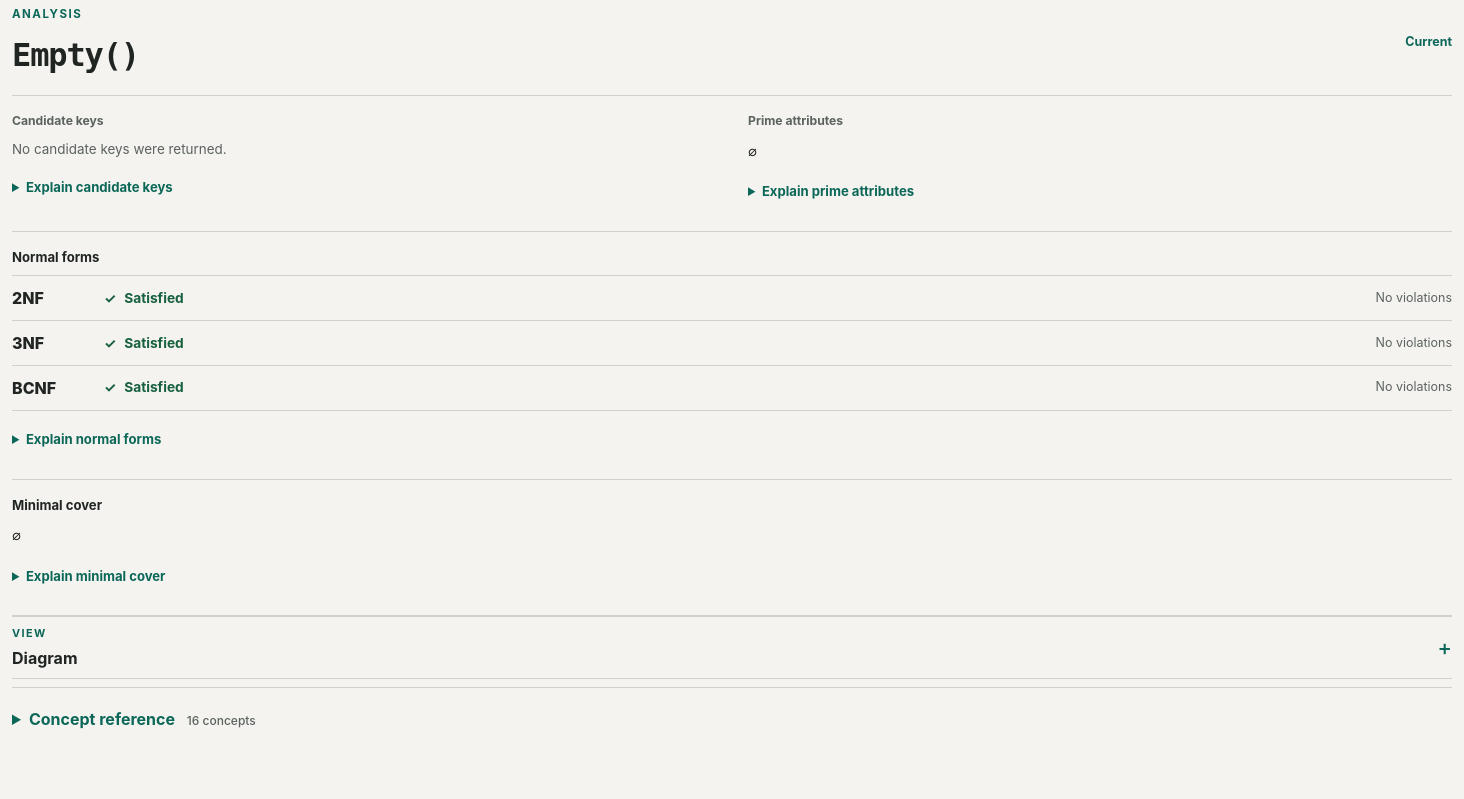
Test case: schema visualization › explains empty relation, dependency and violation states instead of showing a blank canvas
Click the button "View Diagram +" at {"x": 29, "y": 633}, box [12,617,1452,678]
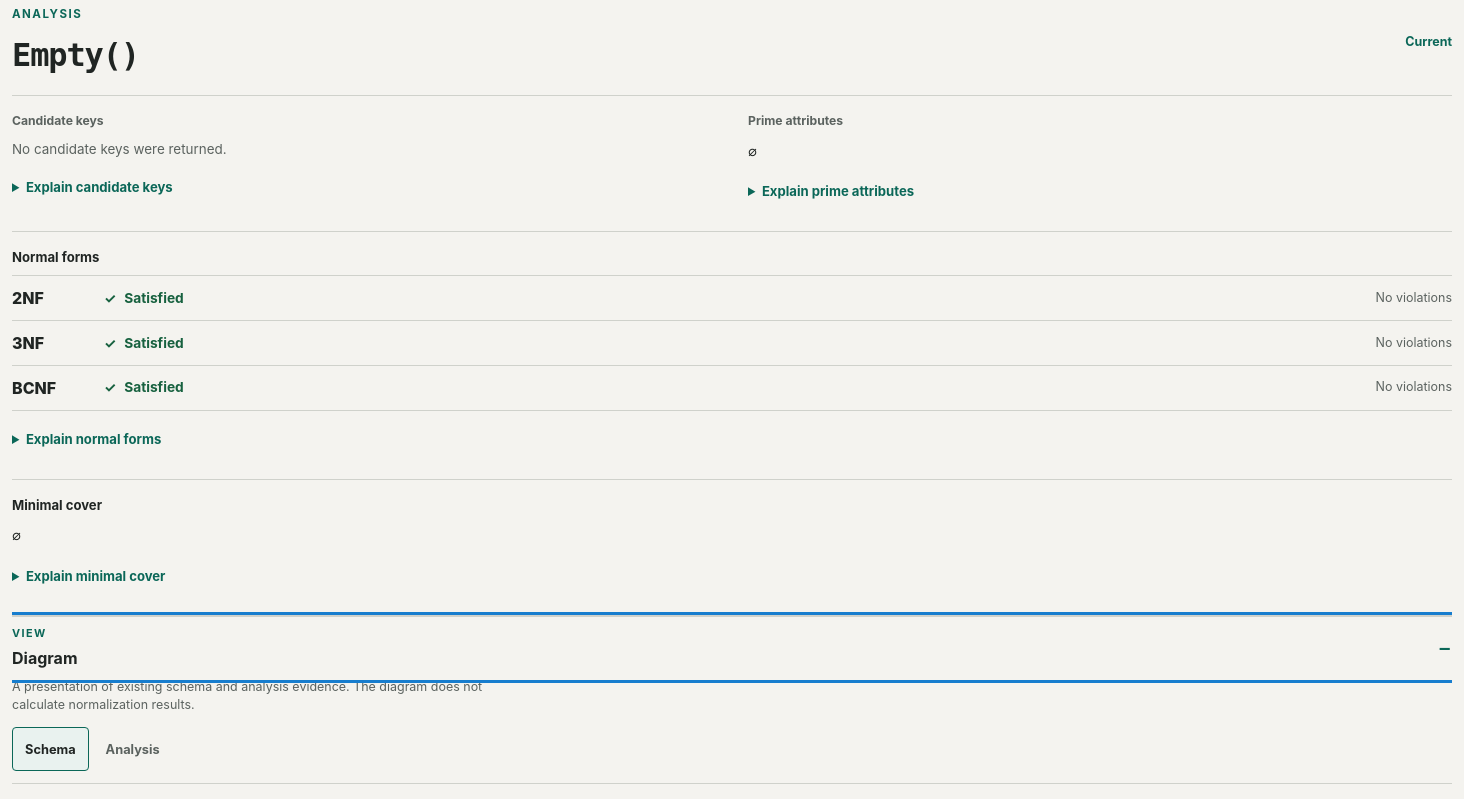
Click the button "Analysis" at {"x": 133, "y": 749}, box [93,727,173,771]
(page scrolled)
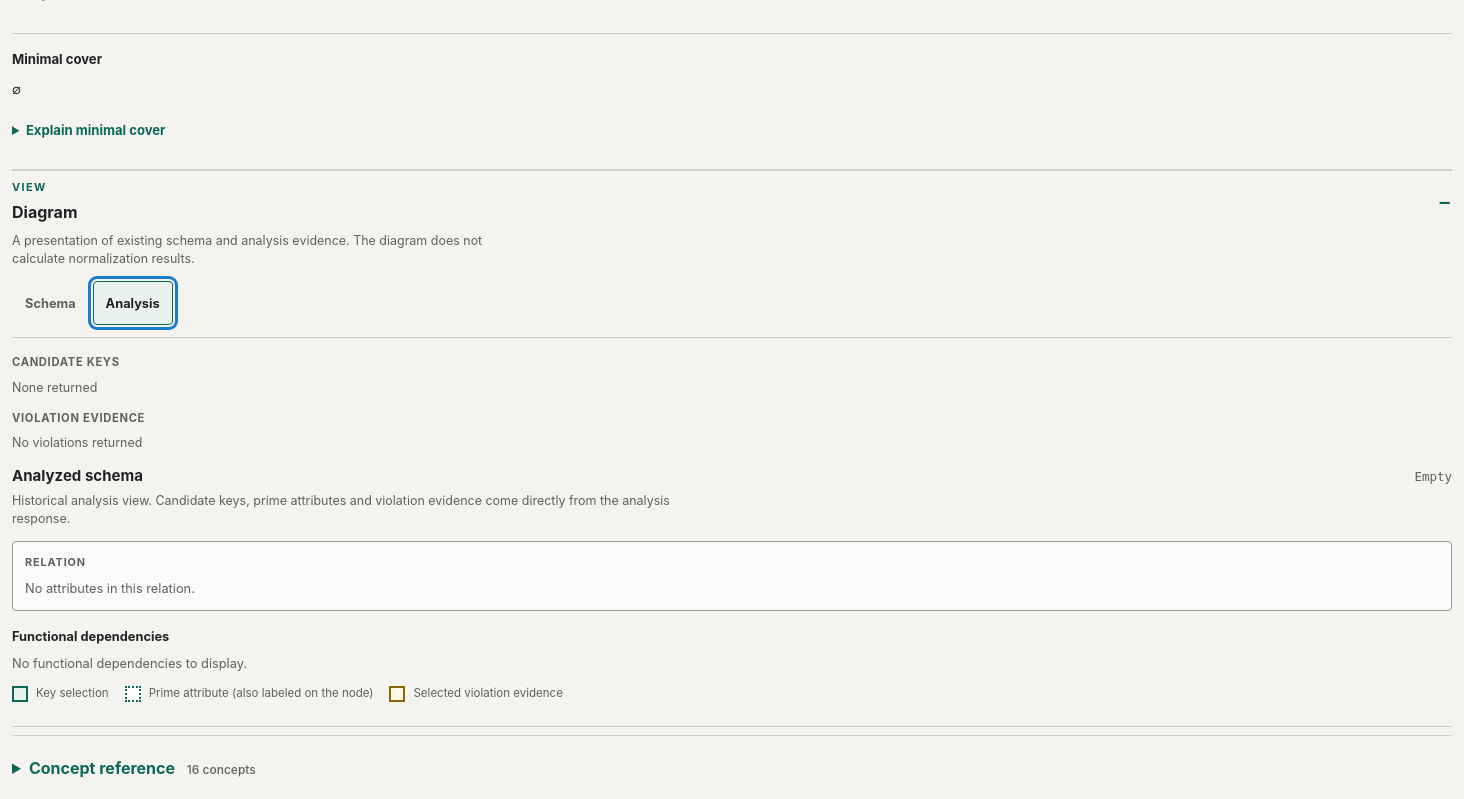
Expected: the text "No violations returned" is shown, [12,434,142,453]
